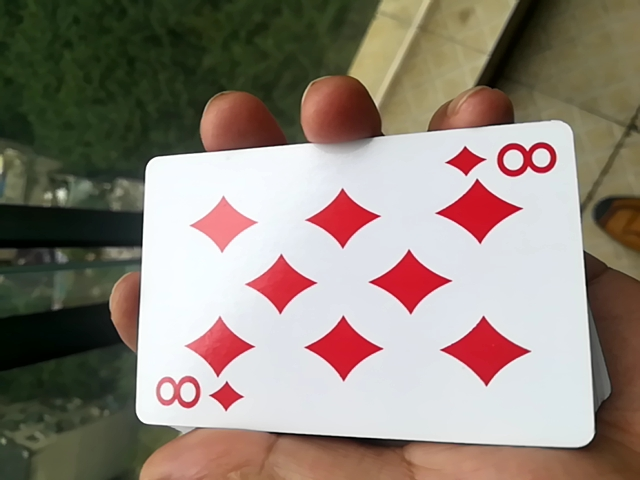fk 8: (118, 131, 586, 457)
